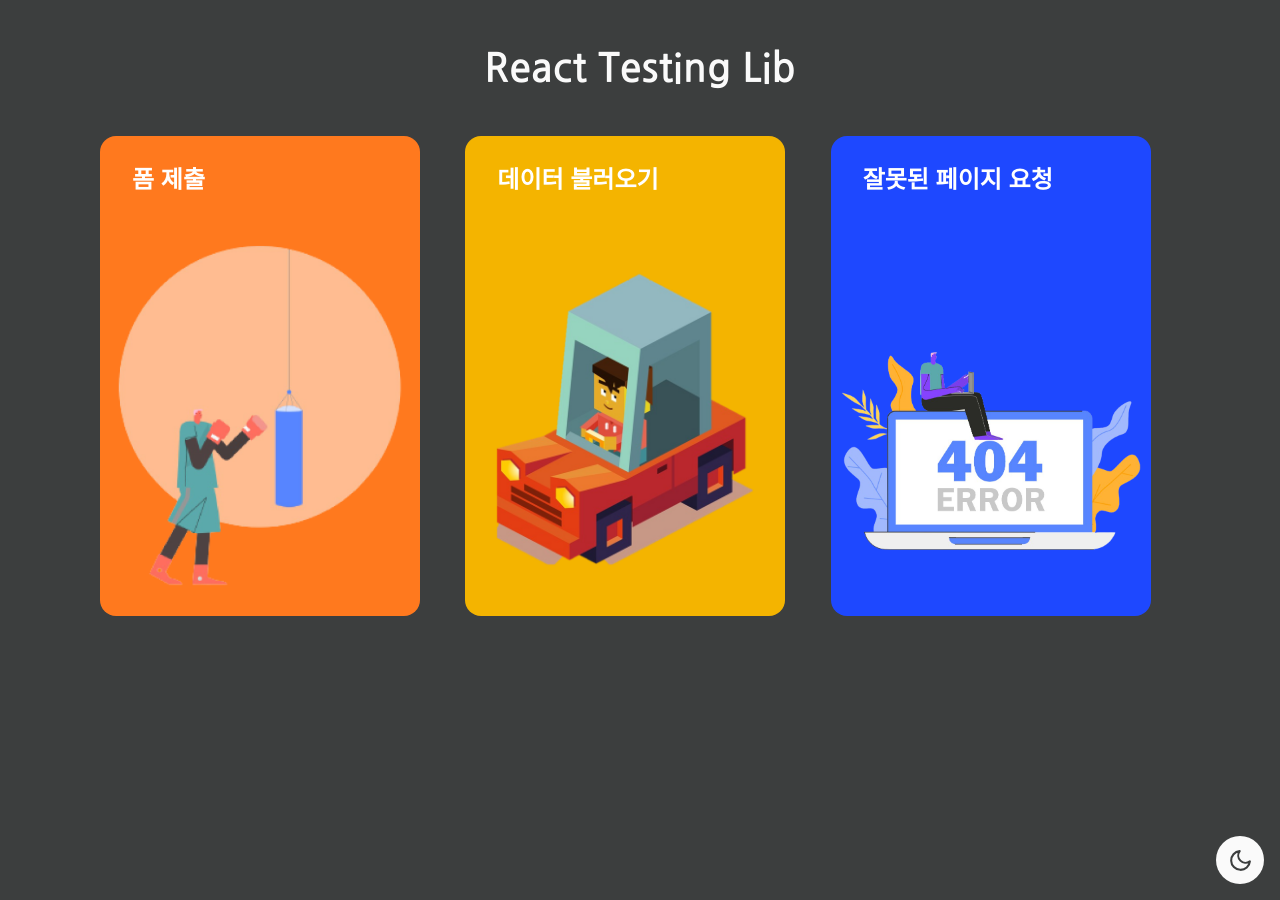
Scenario: <App /> › check routing to form component
Click the link with test id "form-link": (260, 376) x1=100 y1=136 x2=420 y2=616
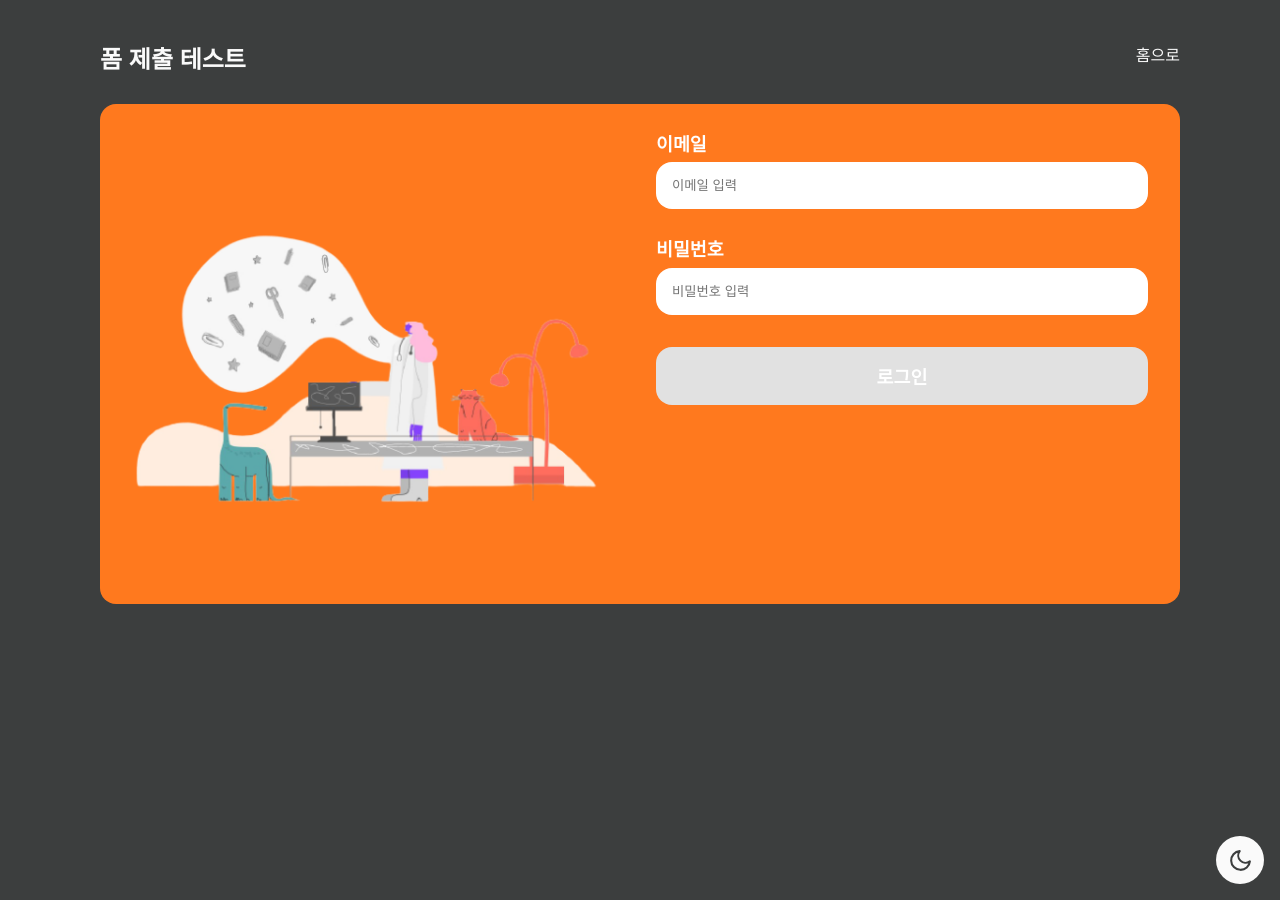
Check: the heading "폼 제출 테스트" is shown, box x1=100 y1=48 x2=246 y2=72
